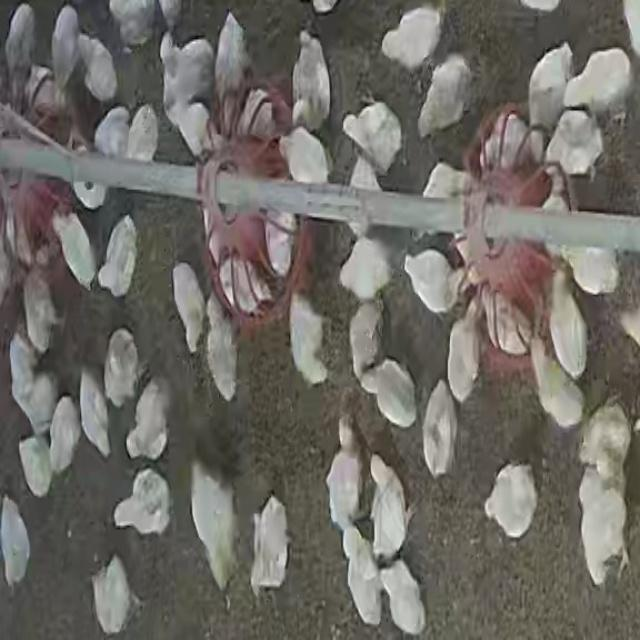chicken: (157, 30, 216, 157), (188, 462, 240, 593), (575, 466, 626, 588), (528, 332, 582, 430), (562, 48, 632, 120), (416, 54, 473, 142), (545, 266, 588, 382), (325, 417, 366, 535), (340, 102, 400, 180), (579, 402, 632, 486), (217, 246, 274, 324), (379, 6, 444, 74), (543, 109, 603, 182), (526, 42, 573, 135), (290, 28, 332, 132), (483, 462, 538, 540), (368, 457, 409, 561), (417, 162, 469, 244), (112, 466, 171, 538), (478, 108, 540, 176), (336, 234, 394, 305), (563, 224, 619, 296), (249, 494, 289, 594), (287, 293, 329, 388), (342, 526, 382, 624), (125, 376, 170, 462), (484, 284, 536, 358), (216, 86, 278, 148), (402, 247, 458, 314), (377, 555, 425, 633), (3, 4, 38, 110), (53, 206, 96, 290), (90, 554, 136, 632), (421, 383, 458, 479), (366, 358, 415, 430), (204, 300, 238, 403), (96, 215, 137, 298), (444, 310, 480, 404), (212, 10, 248, 104), (278, 124, 331, 186), (22, 265, 58, 355), (347, 302, 384, 389), (75, 32, 119, 105), (542, 160, 574, 258), (50, 4, 82, 100), (104, 327, 140, 410), (0, 497, 32, 590), (173, 262, 205, 351), (79, 370, 111, 458), (48, 396, 81, 476), (17, 435, 54, 501), (107, 1, 158, 48), (7, 327, 35, 412), (93, 106, 132, 162), (124, 105, 160, 165), (23, 63, 57, 125), (26, 370, 54, 442), (264, 215, 294, 278)
